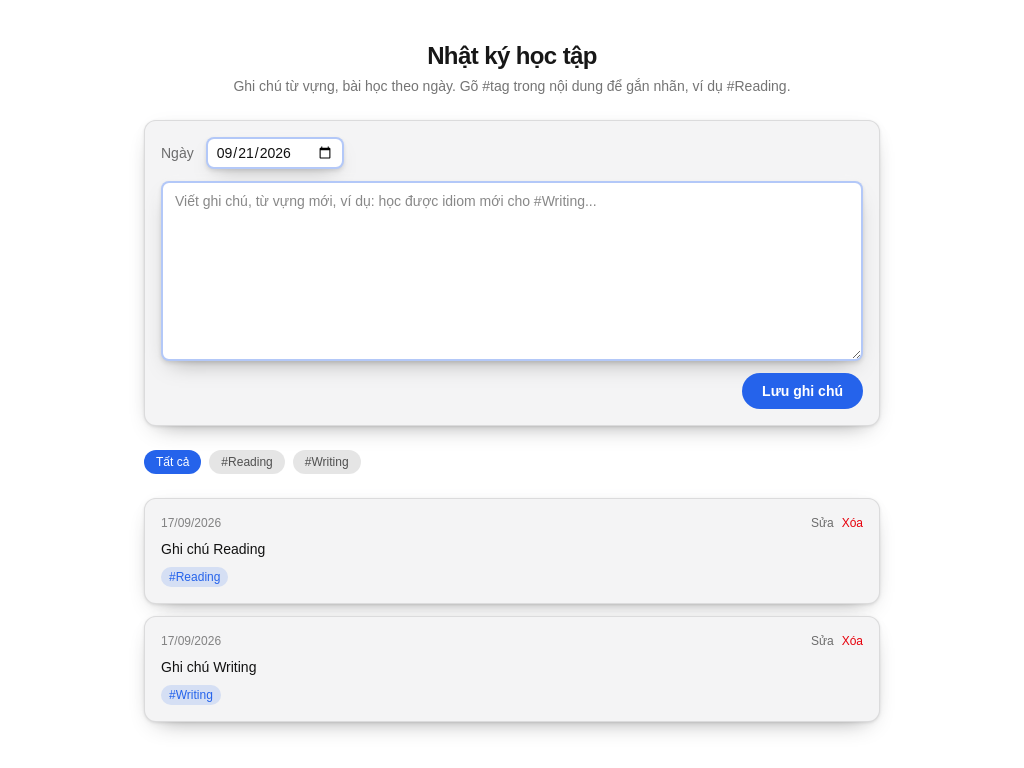
Journal › filters the note list when a tag chip is clicked
This screenshot has width=1024, height=768.
Check: the text "Ghi chú Reading" is shown, box [161,541,265,557]
Check: the text "Ghi chú Writing" is shown, box [161,659,256,675]
Click the button "#Reading" at (247, 462), box [209,450,285,474]
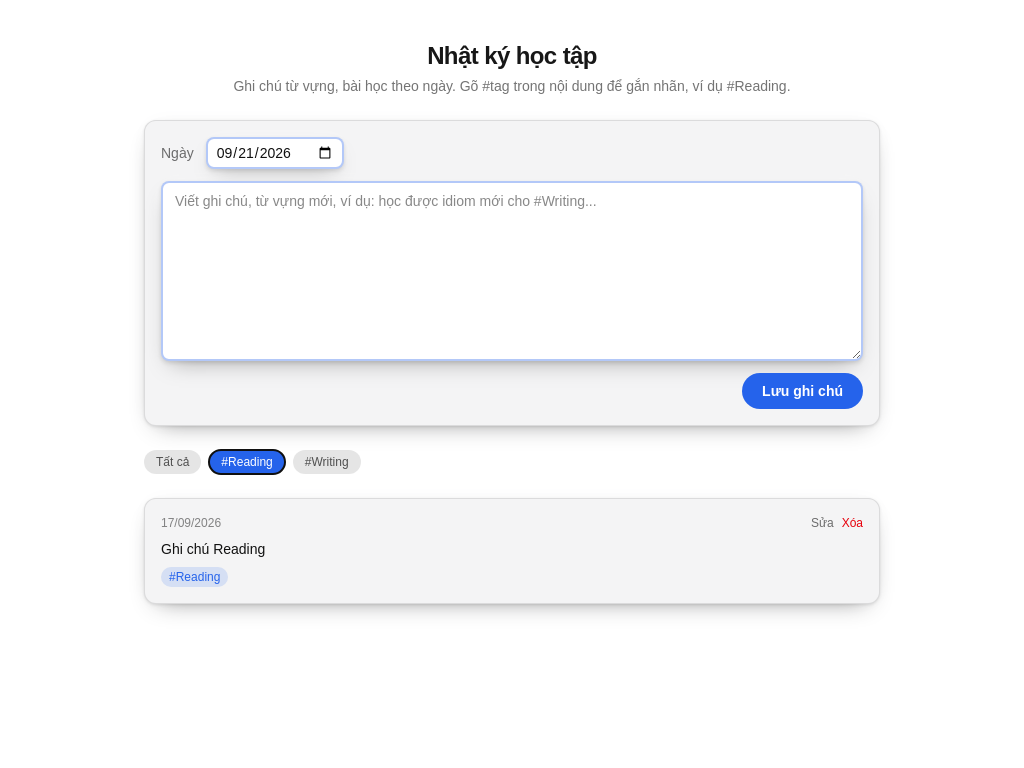
Check: the text "Ghi chú Reading" is shown, box [161,541,265,557]
Check: the text "Ghi chú Writing" is gone
Click the button "Tất cả" at (173, 462), box [144,450,201,474]
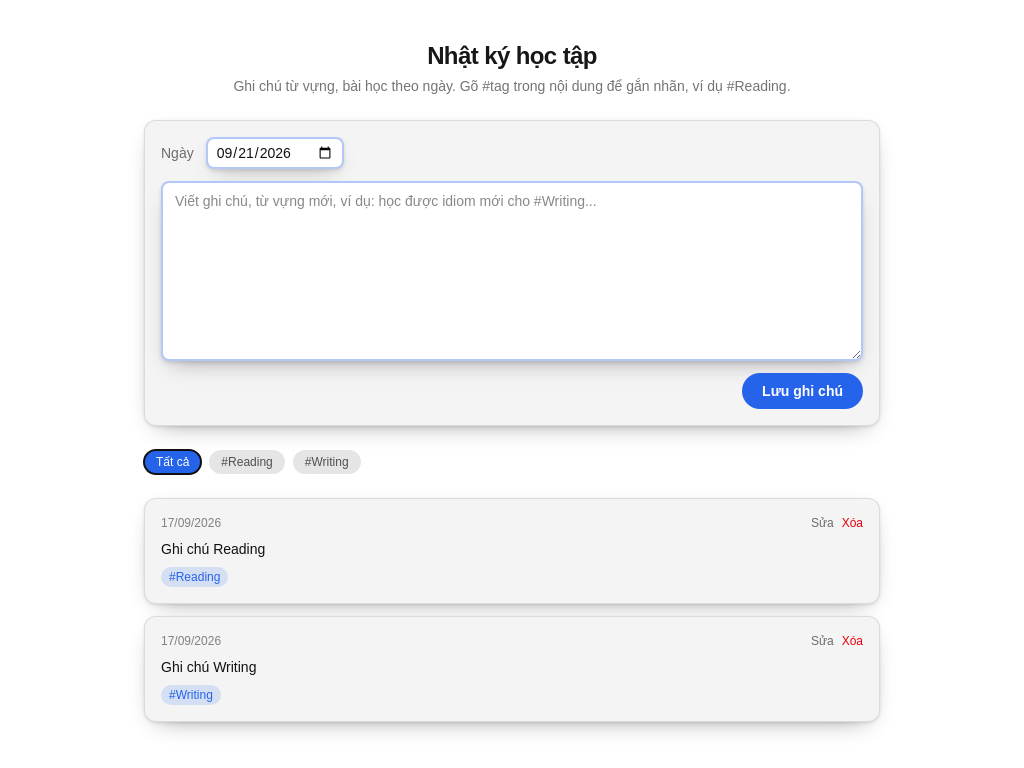
Check: the text "Ghi chú Writing" is shown, box [161,659,256,675]
